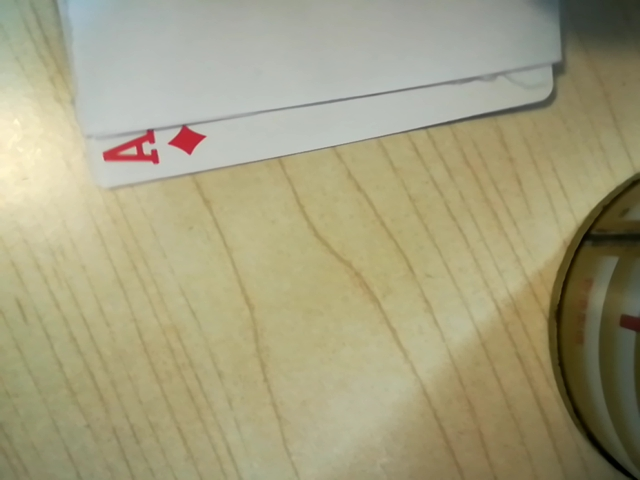fk a: (93, 125, 196, 173)
